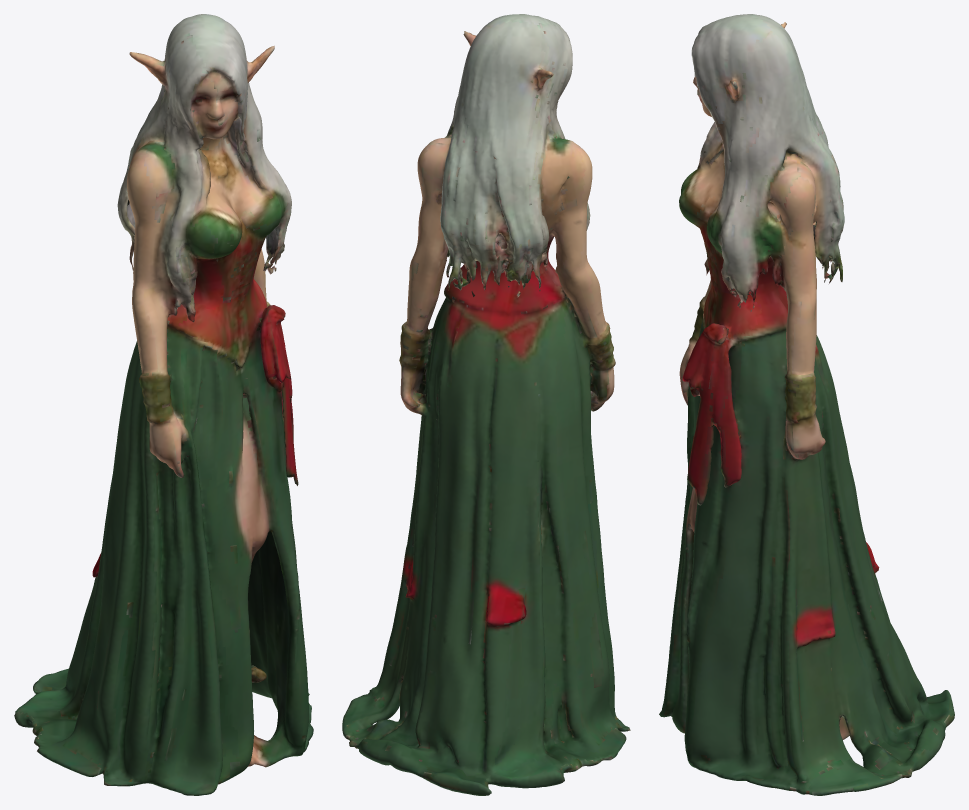
The model's file is barmaid2.glb.
3 views of the same model, side by side, from view 1: azimuth 30°, elevation 25°; view 2: azimuth 150°, elevation 25°; view 3: azimuth 270°, elevation 25° (orthographic). The views are drawn at different scales.
Bounding box in the file's own units: 0.7677 × 1.99 × 0.7437.
1 material, 1 textured.
